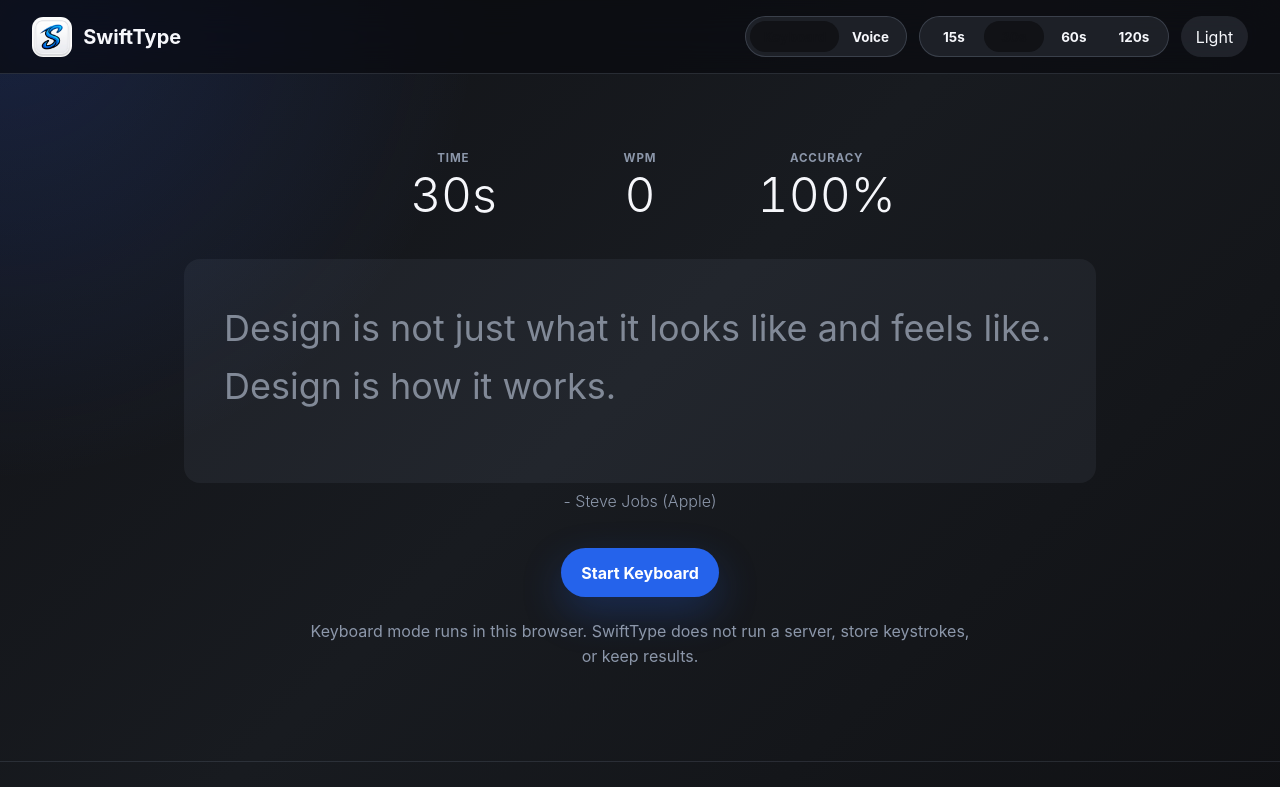
Test: App › does not start the timer when speech recognition is unsupported
Click the button "Voice" at (870, 37), box [839,21,902,52]
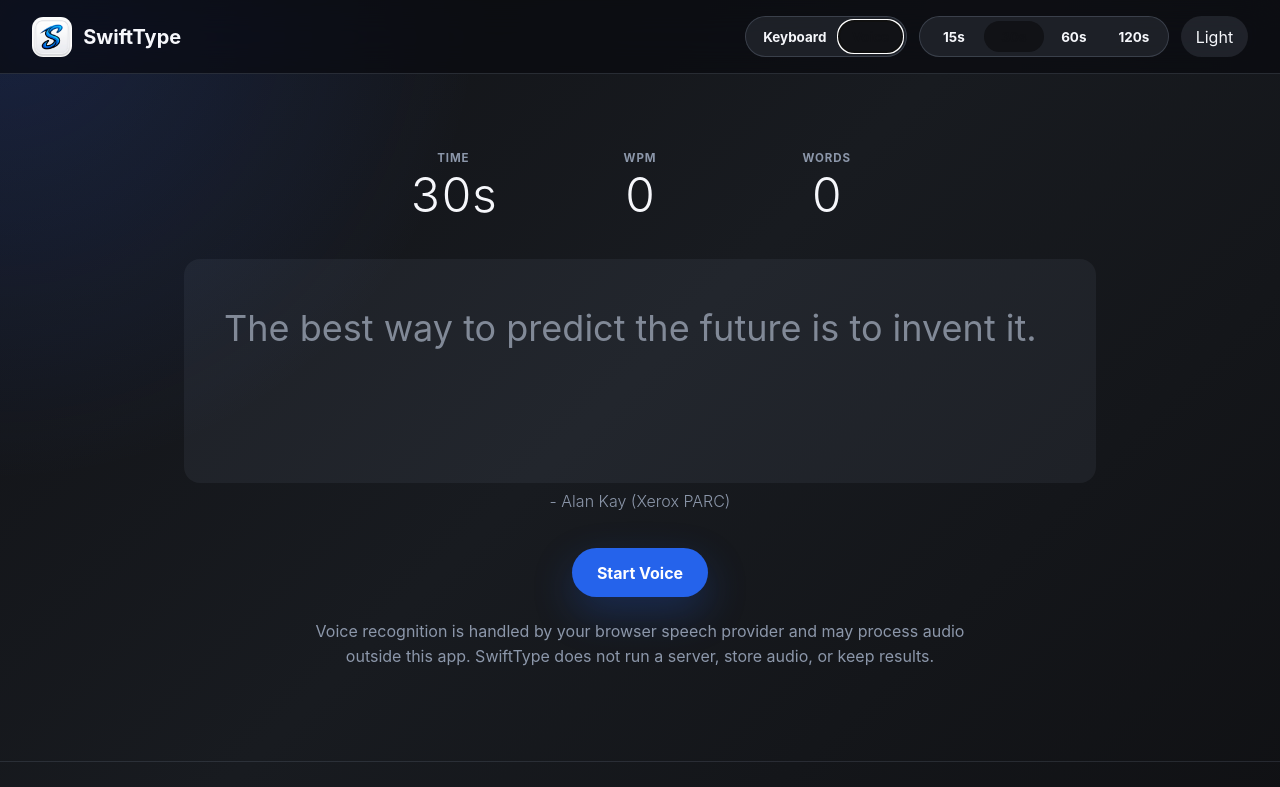
Click the button "Start Voice" at (640, 573), box [572,548,708,597]
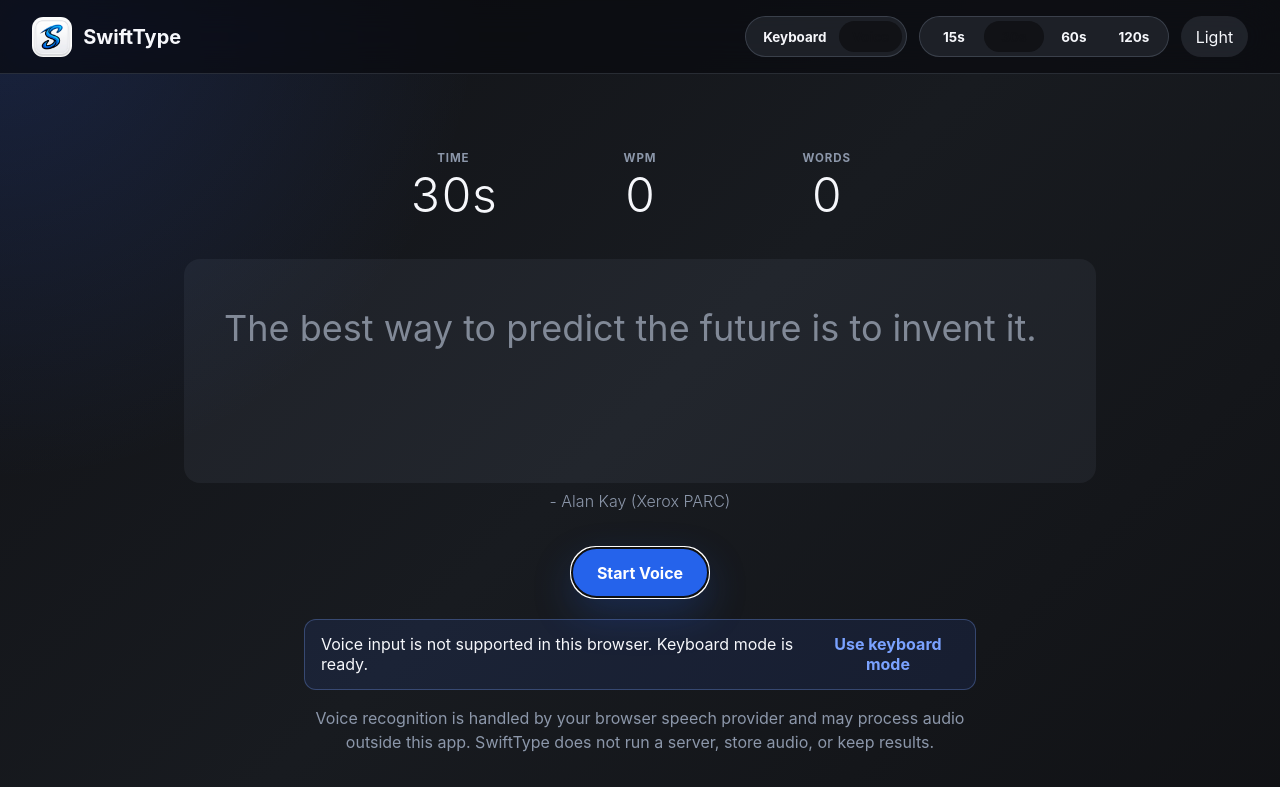
Expected: the text named "30 seconds remaining" is shown, [410,165,497,224]
Expected: the text "Voice input is not supported in this browser" is shown, [321,634,793,674]
